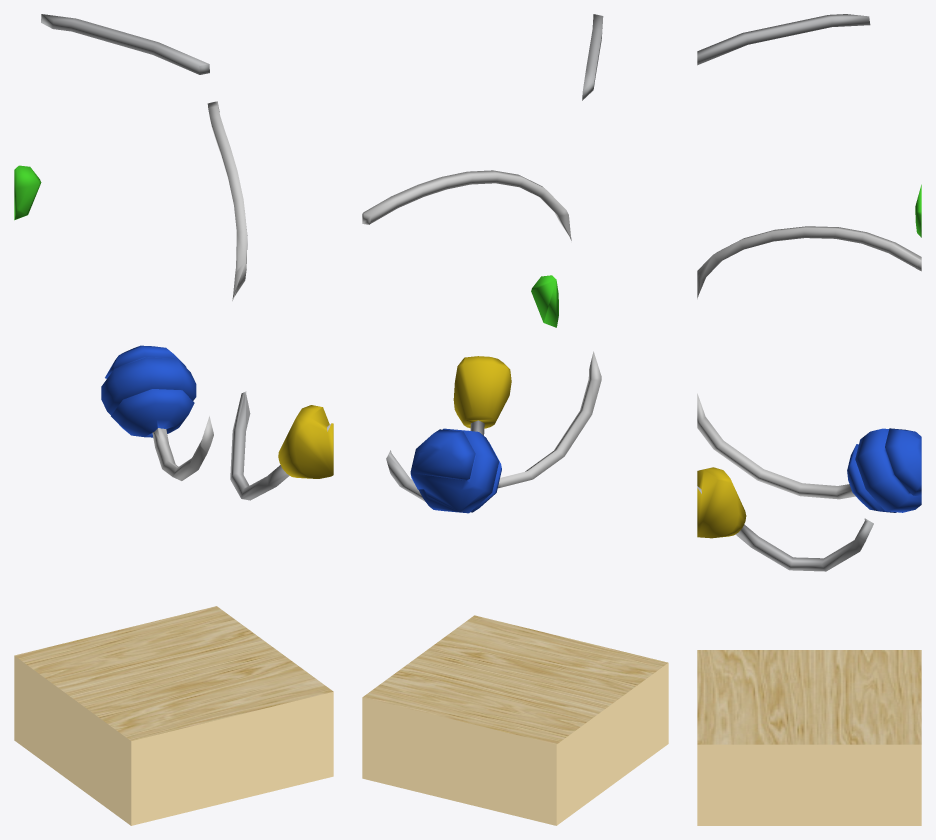
The model's file is 4_Motorikschleife_sm.fbx.
3 renders of one model, left to right at view 1: azimuth 30°, elevation 25°; view 2: azimuth 150°, elevation 25°; view 3: azimuth 270°, elevation 25°, orthographic. The views are drawn at different scales.
Parts seen in each view (by area): view 1: Cube.004; view 2: Cube.004; view 3: Cube.004.
Part boxes in pixels (x1,y1,x2,y2): Cube.004: (14,14,333,825); Cube.004: (362,14,668,825); Cube.004: (697,14,921,825).
Bounding box in the file's own units: 500 × 1773 × 500.
